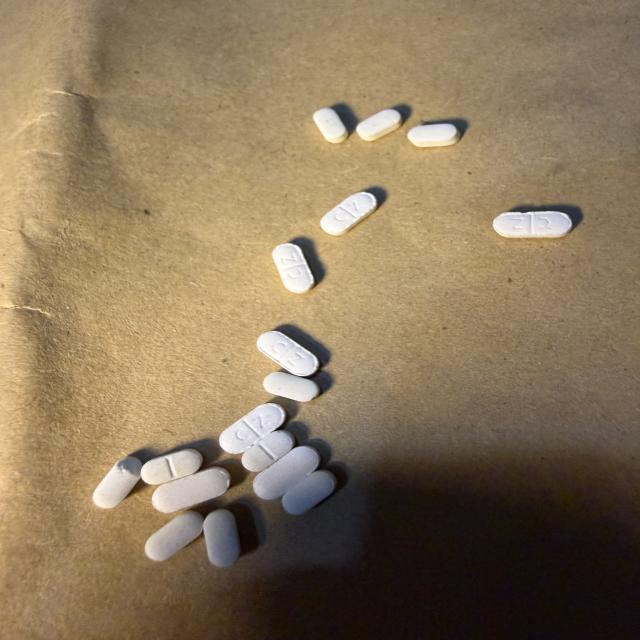pill: (253, 446, 320, 499), (152, 467, 230, 512), (220, 403, 286, 453), (145, 511, 203, 561), (257, 331, 319, 376), (320, 192, 378, 236), (93, 457, 142, 508), (283, 470, 336, 514), (141, 449, 202, 484), (242, 430, 294, 471), (204, 509, 240, 567), (273, 244, 314, 293), (493, 212, 572, 237), (264, 372, 320, 401), (356, 109, 401, 141), (313, 108, 348, 143), (408, 124, 460, 146)
